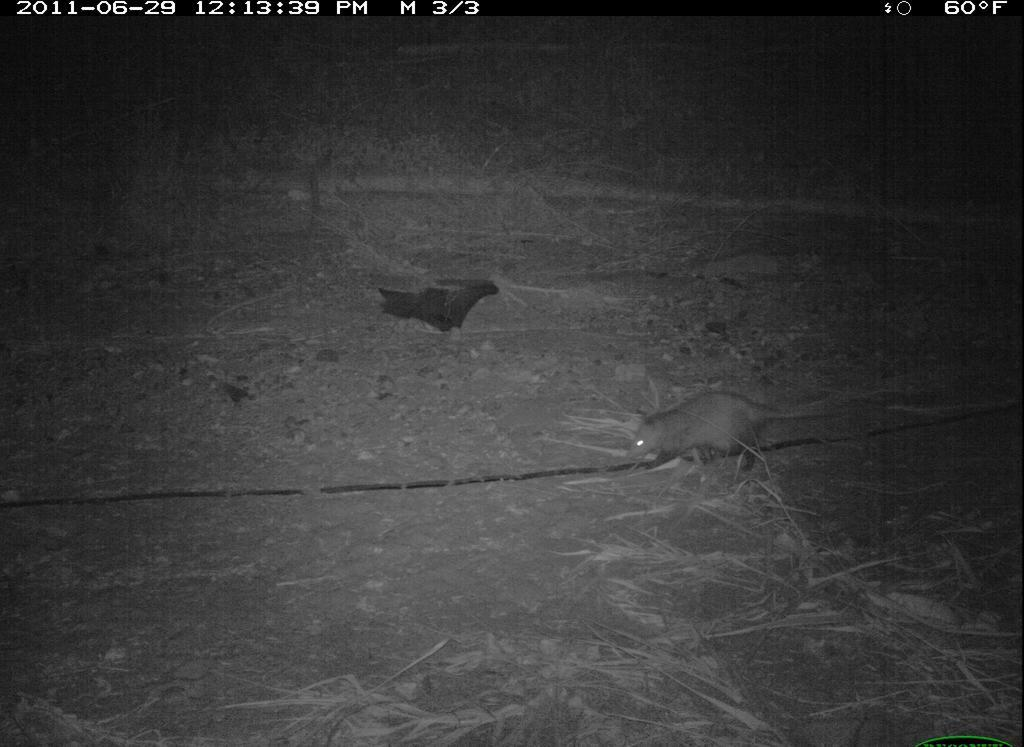opossum: (623, 387, 827, 475)
